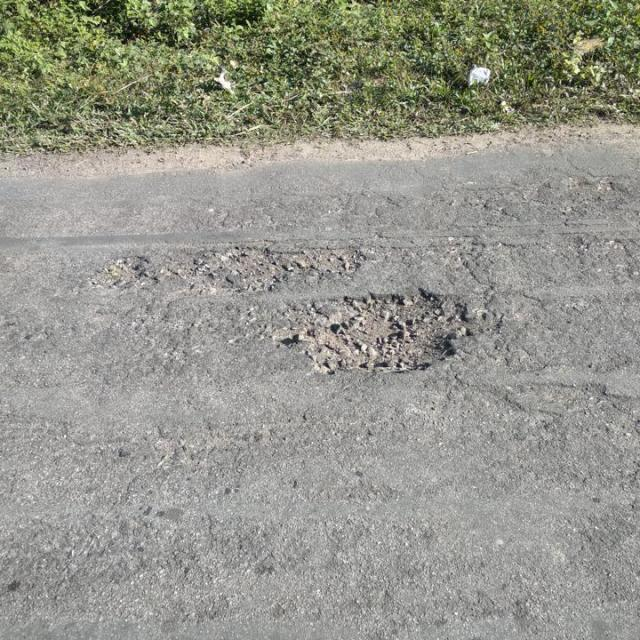pothole: (289, 286, 481, 377), (174, 242, 370, 294), (84, 252, 164, 296)
